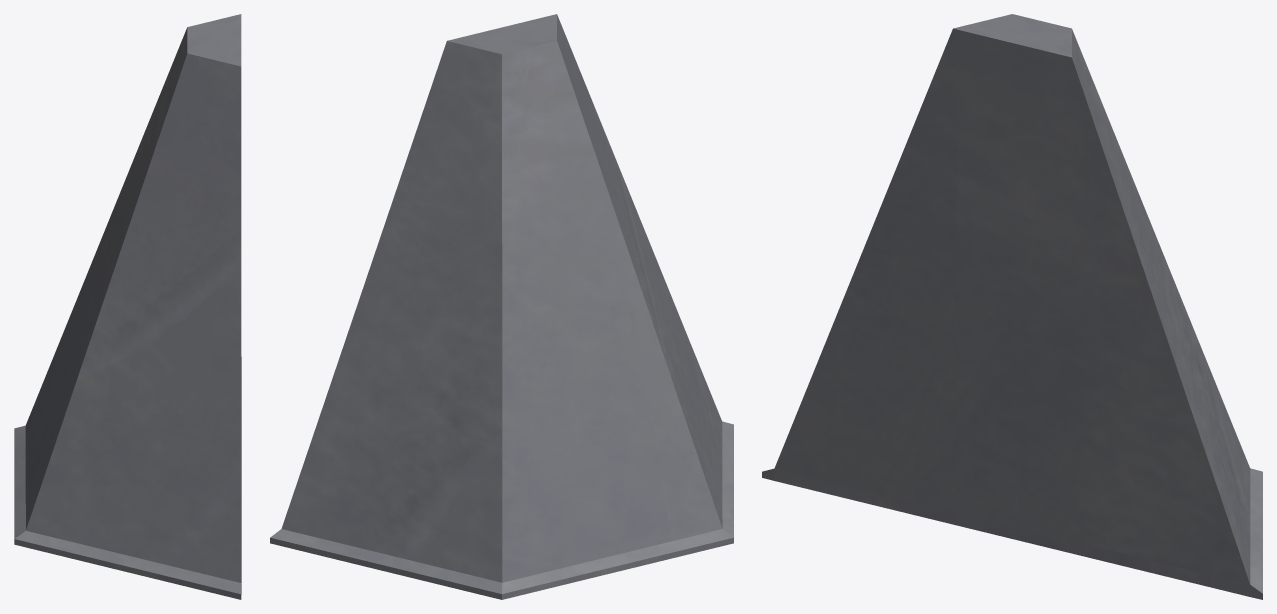
The model's file is PillarHexTop.001.fbx.
3 views of the same model, side by side, from view 1: azimuth 30°, elevation 25°; view 2: azimuth 150°, elevation 25°; view 3: azimuth 270°, elevation 25° (orthographic). The views are drawn at different scales.
Parts seen in each view (by area): view 1: PillarHexTop.001; view 2: PillarHexTop.001; view 3: PillarHexTop.001.
Boxes of the visible parts, x1,y1,x2,y2 form: PillarHexTop.001: (14, 14, 241, 599); PillarHexTop.001: (270, 14, 733, 599); PillarHexTop.001: (762, 14, 1262, 599).
Bounding box in the file's own units: 157 × 199 × 182.
